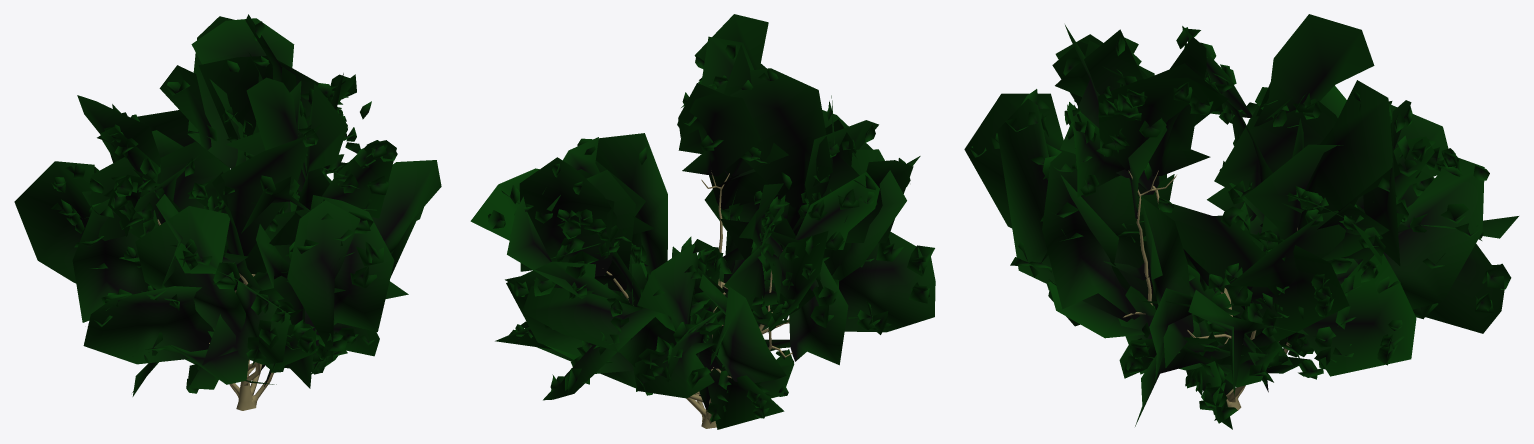
File: RoseBushBigRHEP_D.fbx
3 views of the same model, side by side, from view 1: azimuth 30°, elevation 25°; view 2: azimuth 150°, elevation 25°; view 3: azimuth 270°, elevation 25° (orthographic). The views are drawn at different scales.
Parts seen in each view (by area): view 1: RBBRHEPD-Leaves_LOD0, RBBRHEPD-Flowers_LOD0, RBBRHEPD-Branches_LOD0; view 2: RBBRHEPD-Leaves_LOD0, RBBRHEPD-Flowers_LOD0, RBBRHEPD-Branches_LOD0; view 3: RBBRHEPD-Leaves_LOD0, RBBRHEPD-Flowers_LOD0, RBBRHEPD-Branches_LOD0.
Boxes of the visible parts, x1,y1,x2,y2 form: RBBRHEPD-Leaves_LOD0: [14, 14, 441, 396]; RBBRHEPD-Flowers_LOD0: [51, 21, 397, 393]; RBBRHEPD-Branches_LOD0: [157, 219, 273, 410]; RBBRHEPD-Leaves_LOD0: [506, 14, 935, 409]; RBBRHEPD-Flowers_LOD0: [470, 44, 934, 429]; RBBRHEPD-Branches_LOD0: [606, 172, 792, 428]; RBBRHEPD-Leaves_LOD0: [964, 14, 1518, 426]; RBBRHEPD-Flowers_LOD0: [970, 26, 1511, 429]; RBBRHEPD-Branches_LOD0: [1123, 170, 1297, 410].
Size of what is drawn, in the model's own units: 2.8 by 2.54 by 3.23.
